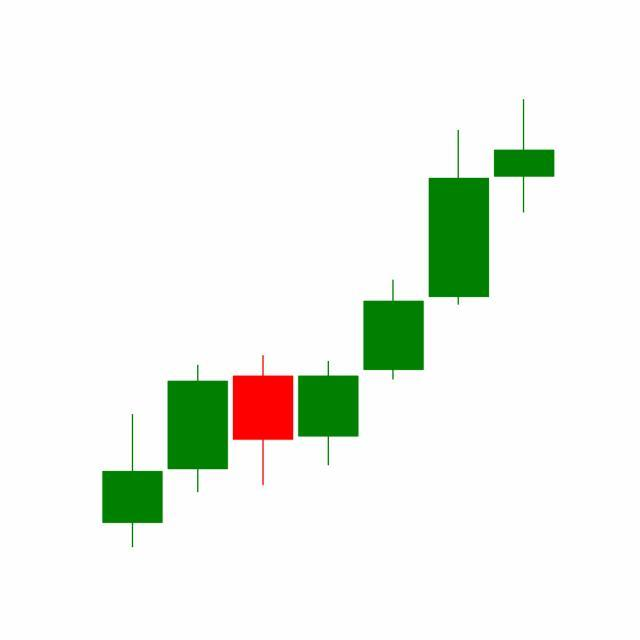Advance Block: (360, 100, 556, 385)
